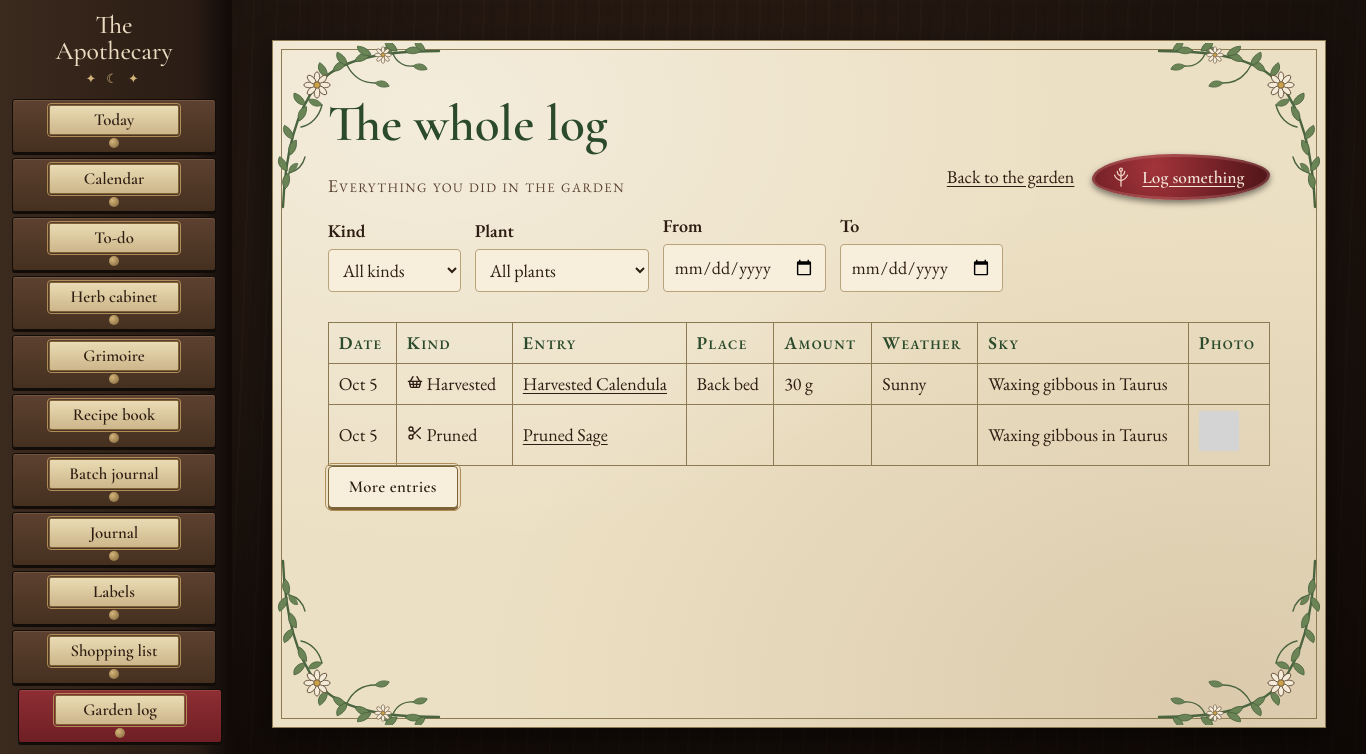
Scenario: pages with More entries until the log is all shown
Click the button "More entries" at (393,487), box [328, 466, 458, 508]
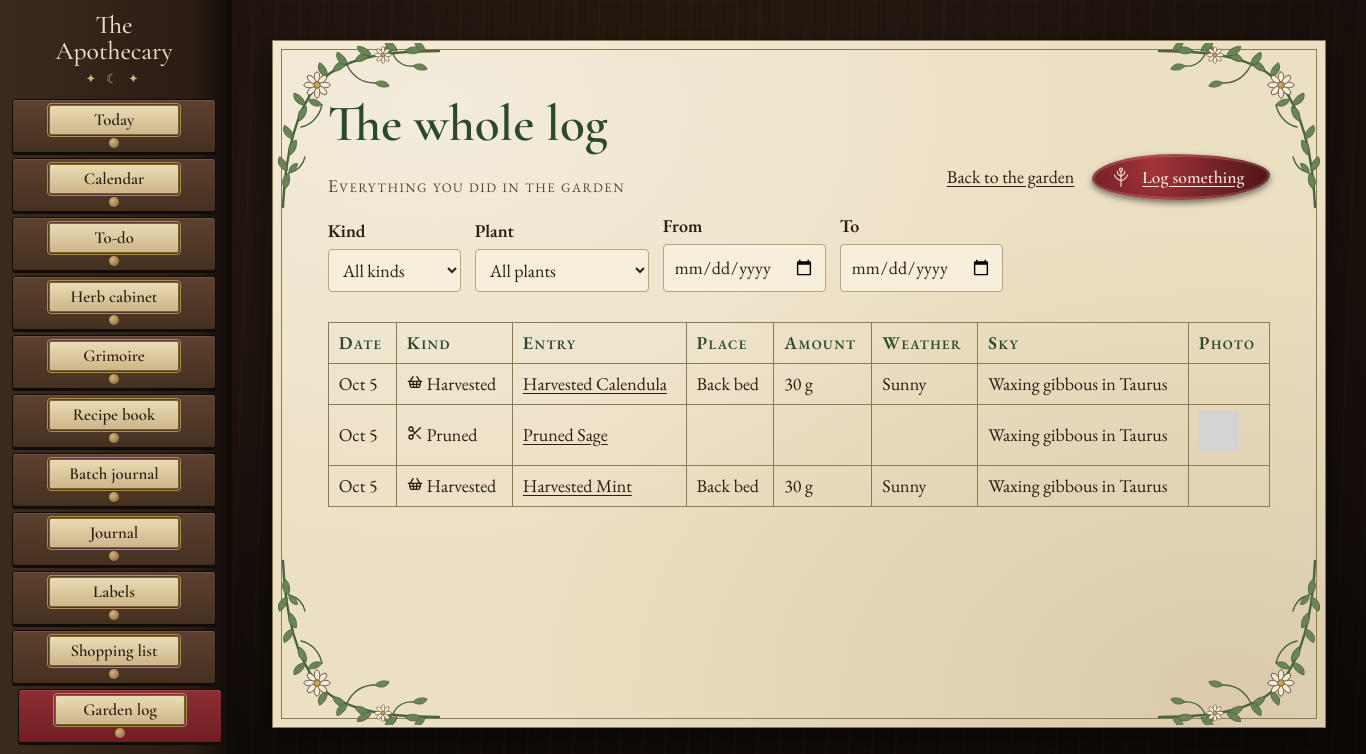
Expected: the link "Harvested Mint" is shown, [523, 474, 632, 497]
Expected: the button "More entries" is gone
